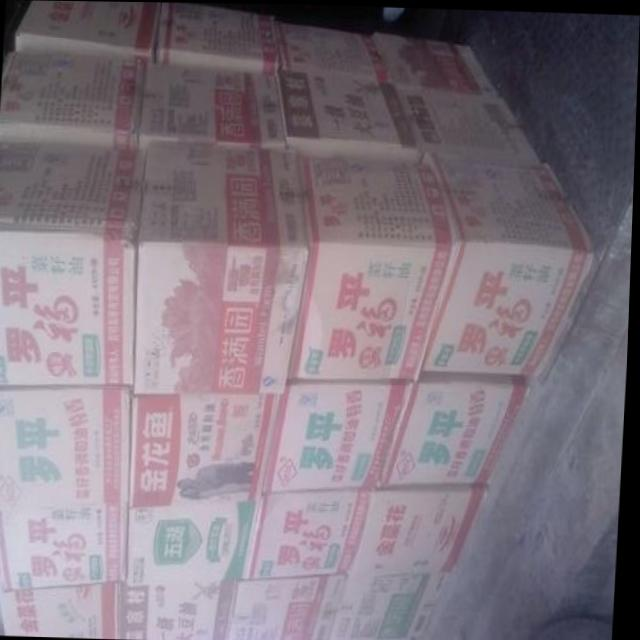box: (137, 136, 312, 395), (423, 151, 596, 373), (290, 149, 456, 379), (0, 135, 149, 387), (131, 391, 286, 507), (264, 380, 419, 494), (382, 368, 533, 484), (0, 385, 135, 513), (0, 47, 147, 148), (141, 58, 288, 150), (278, 71, 424, 160), (355, 482, 492, 571), (395, 82, 543, 162), (0, 506, 130, 591), (128, 501, 265, 581), (257, 493, 378, 578), (0, 560, 122, 637), (153, 3, 279, 75), (336, 570, 461, 640), (371, 32, 501, 96), (234, 573, 353, 640), (14, 0, 161, 53), (122, 578, 243, 639), (275, 22, 391, 81)
